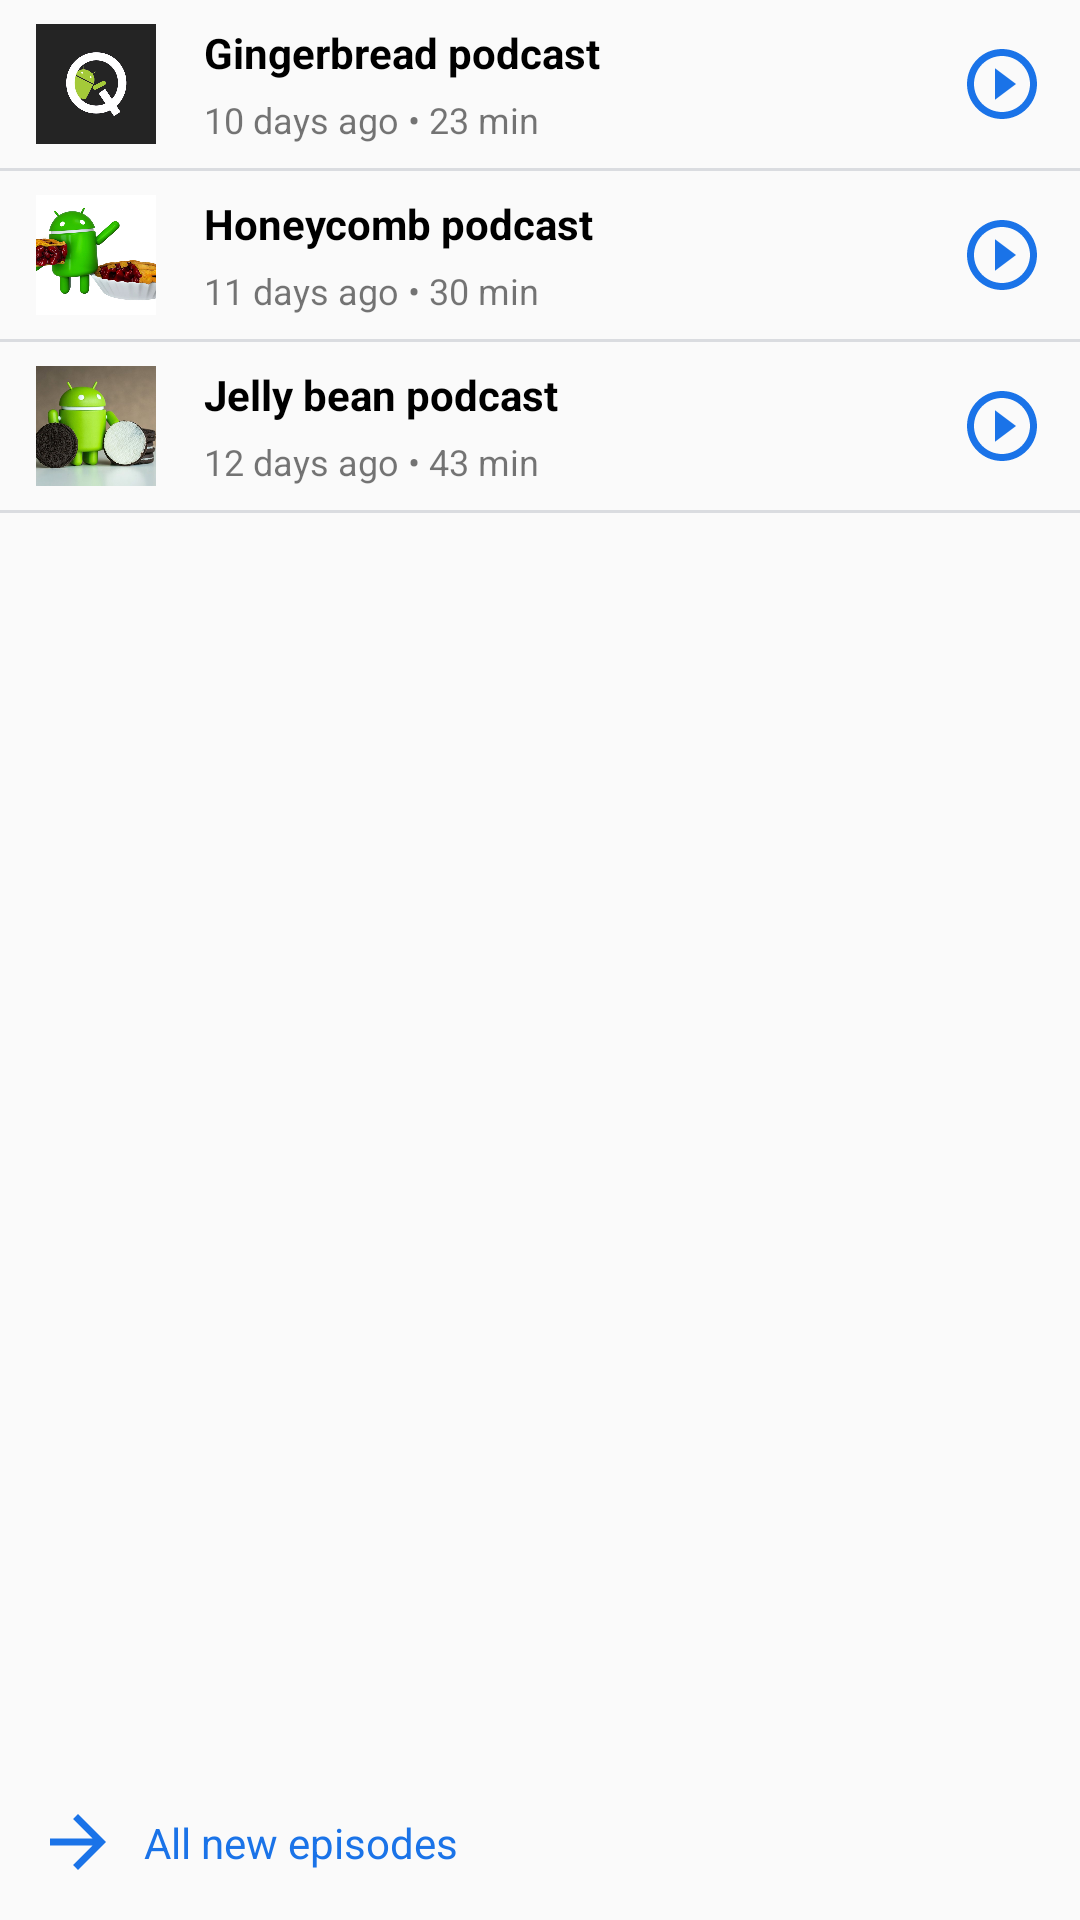

Locate icon controls on the screen. Image size 1080w x 1920h, boxes as bbox=[x1, y1, x2, y2].
forward: bbox=[50, 1814, 106, 1870]
play: bbox=[967, 49, 1037, 119], bbox=[967, 220, 1037, 290], bbox=[967, 391, 1037, 461]
